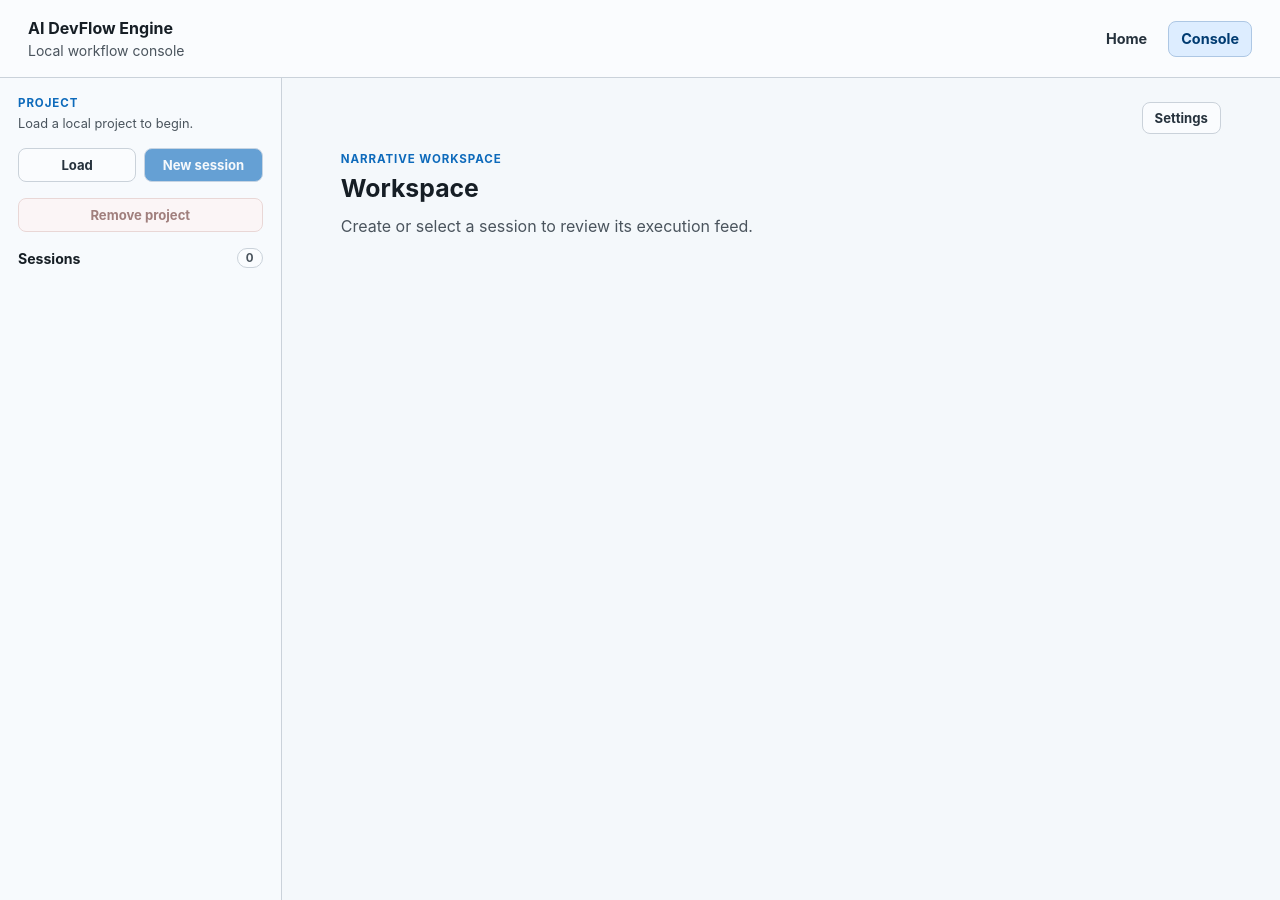
Test: WorkspaceShell › keeps a loaded project visible through the query refresh flow
The image size is (1280, 900).
Click the button "Load" at (77, 165), box x1=18 y1=148 x2=136 y2=182
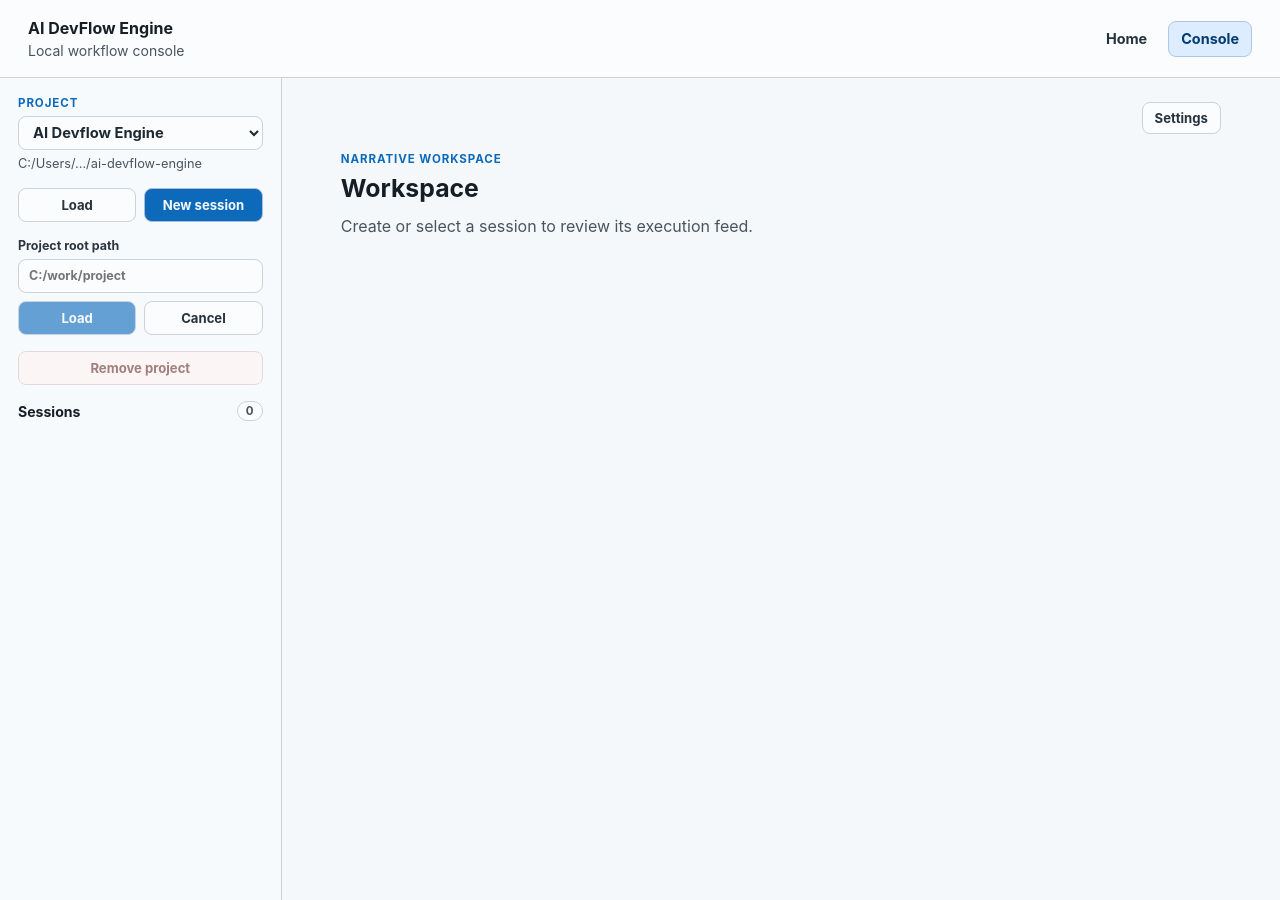
Type "C:/work/query-refresh-flow" into the field labelled "Project root path" at (140, 276), box x1=18 y1=259 x2=263 y2=293
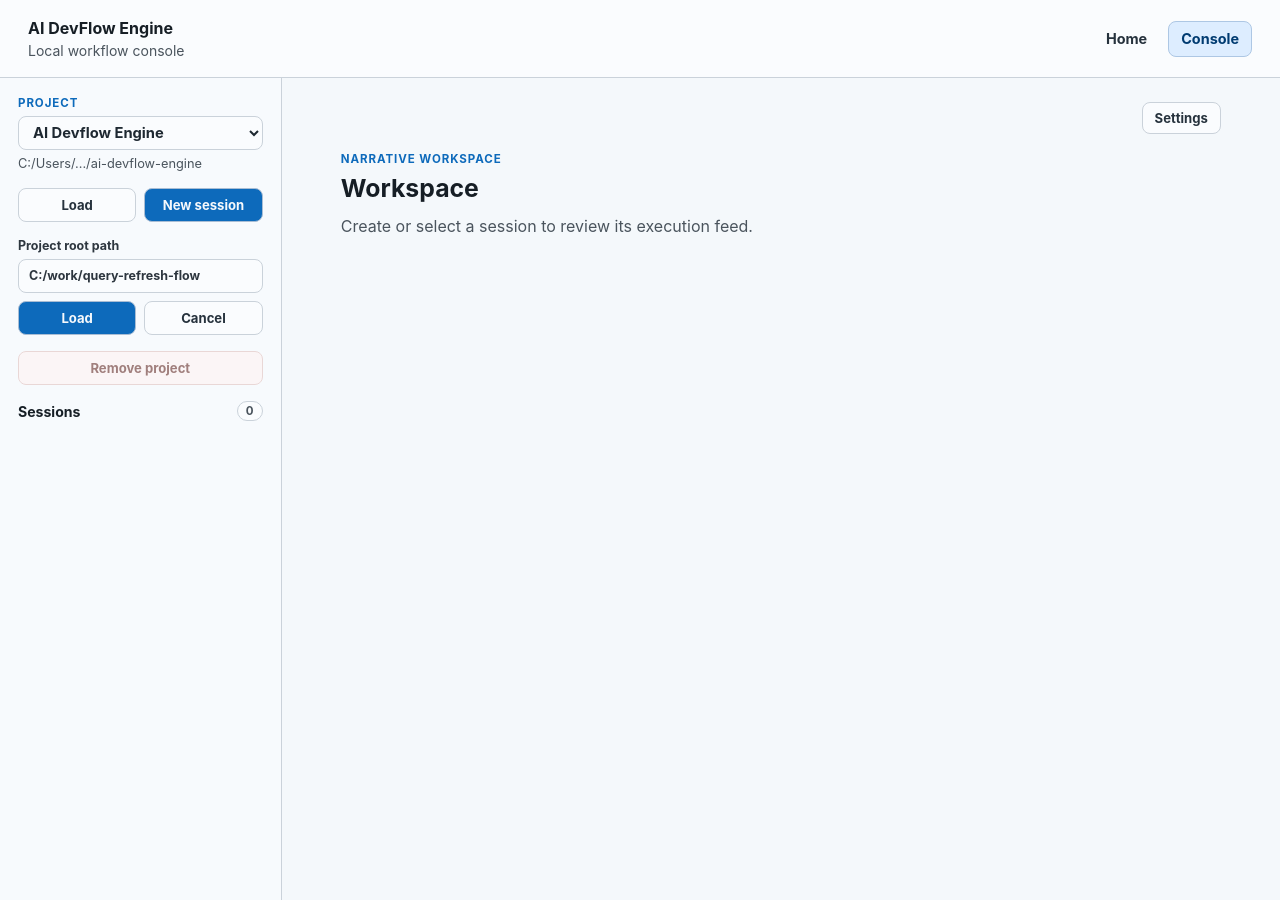
Click the button "Load" below "Project root path" at (77, 318), box x1=18 y1=301 x2=136 y2=335
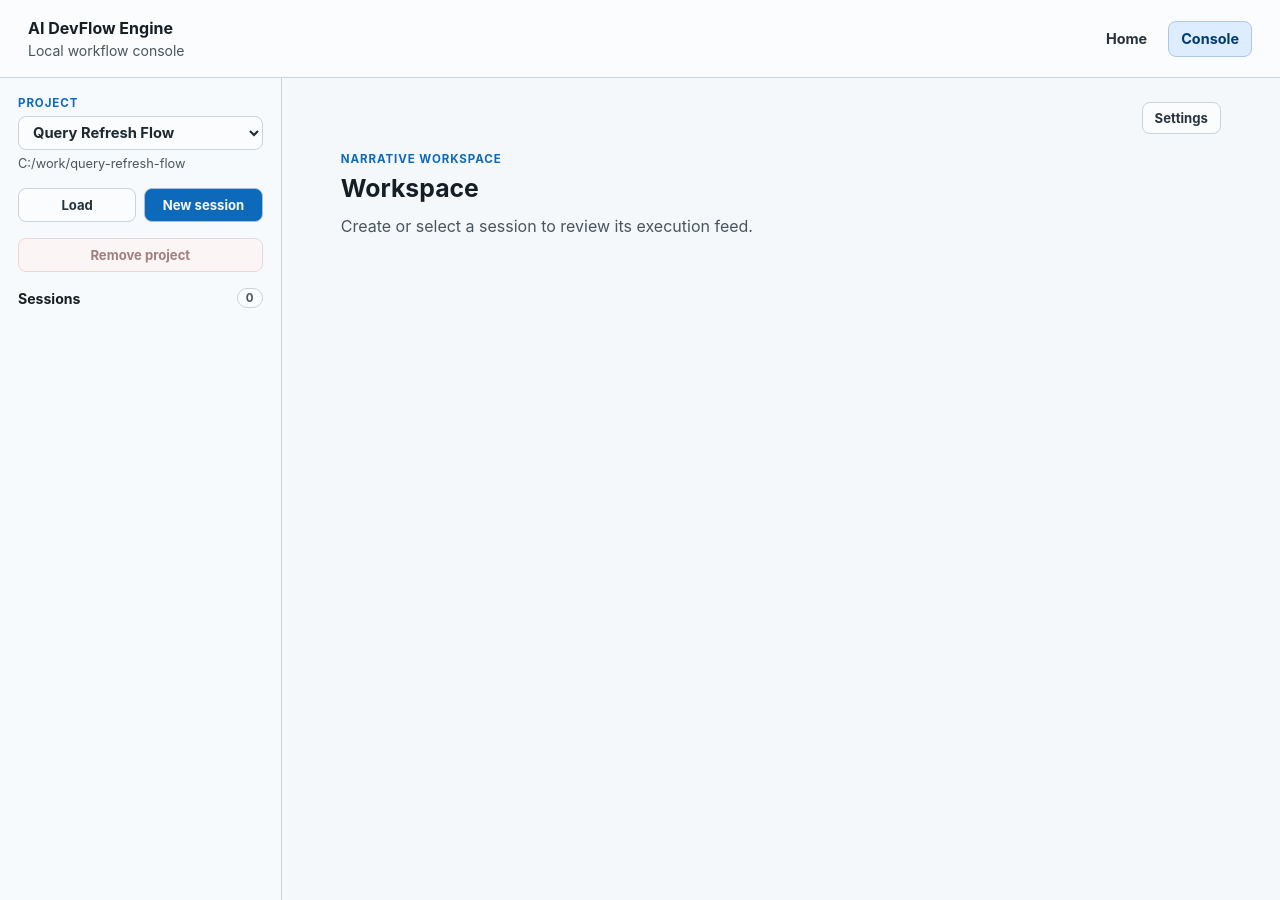
Now the dropdown named "Switch project" shows "Query Refresh Flow", box x1=18 y1=116 x2=263 y2=150
Now the text "C:/work/query-refresh-flow" is shown, box x1=18 y1=156 x2=186 y2=171
